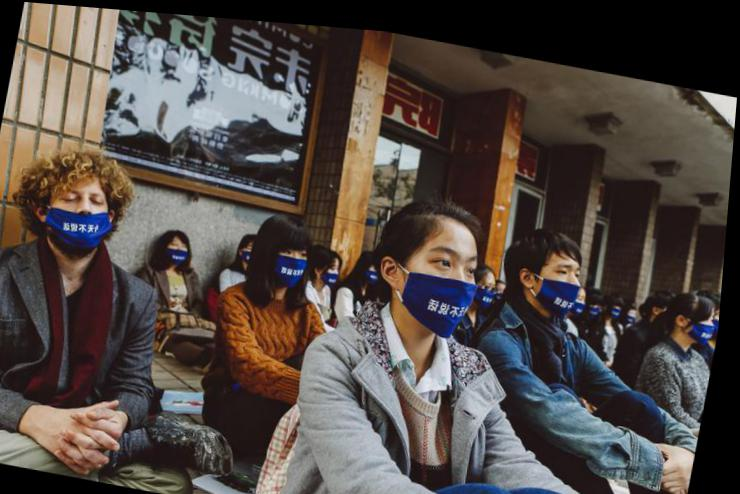OK: (393, 231, 487, 326), (267, 233, 316, 282), (470, 265, 503, 306), (688, 298, 722, 337), (168, 235, 193, 264), (369, 254, 387, 280), (244, 236, 262, 260), (613, 292, 628, 309), (593, 292, 608, 309), (628, 299, 641, 316)
WRONG: (47, 176, 121, 250), (533, 246, 594, 307), (321, 254, 348, 283)
